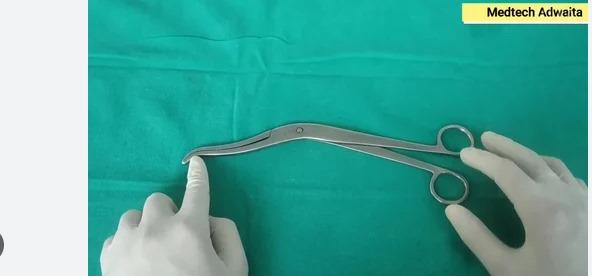Cheatle Forceps: (179, 110, 477, 206)
